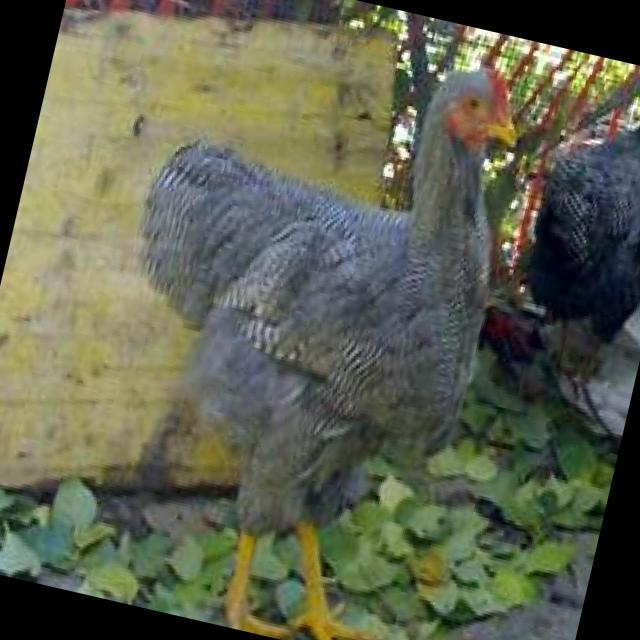animal: (53, 0, 558, 640), (491, 48, 640, 398)
